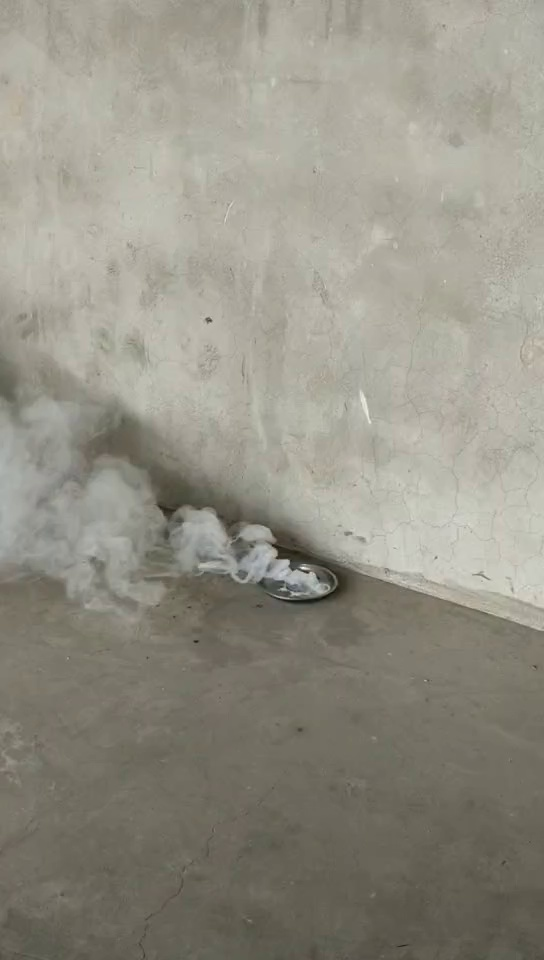smoke: (8, 396, 283, 587)
